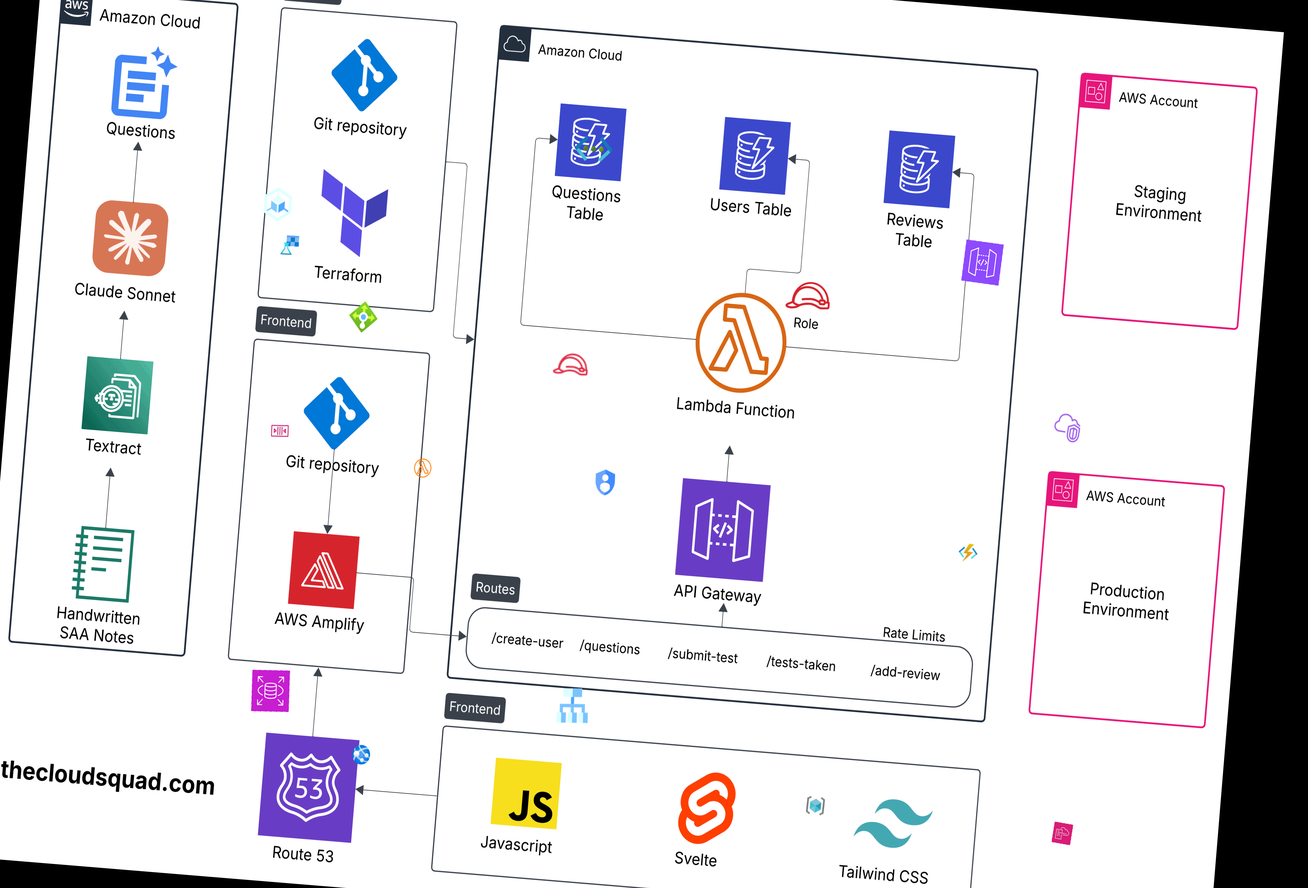aws_amazon_api_gateway: (961, 239, 1004, 286)
aws_amazon_rds: (249, 667, 292, 714)
aws_cloudformation: (1051, 821, 1073, 845)
aws_identity_access_management_role: (549, 341, 592, 388)
aws_lambda_lambda_function: (411, 456, 434, 480)
aws_simple_queue_service_queue: (269, 419, 291, 442)
aws_vpc_virtual_private_cloud_vpc: (1051, 409, 1084, 446)
azure_app_services: (351, 743, 372, 766)
azure_function_apps: (957, 541, 979, 564)
azure_load_balancers: (347, 299, 380, 334)
azure_machine_learning_studio_workspaces: (279, 234, 300, 256)
azure_resource_groups: (805, 794, 826, 817)
azure_virtual_networks: (573, 126, 614, 171)
gcp_cloud_load_balancing: (551, 682, 594, 729)
gcp_google_kubernetes_engine: (257, 181, 299, 227)
gcp_identity_and_access_management: (589, 465, 621, 500)
